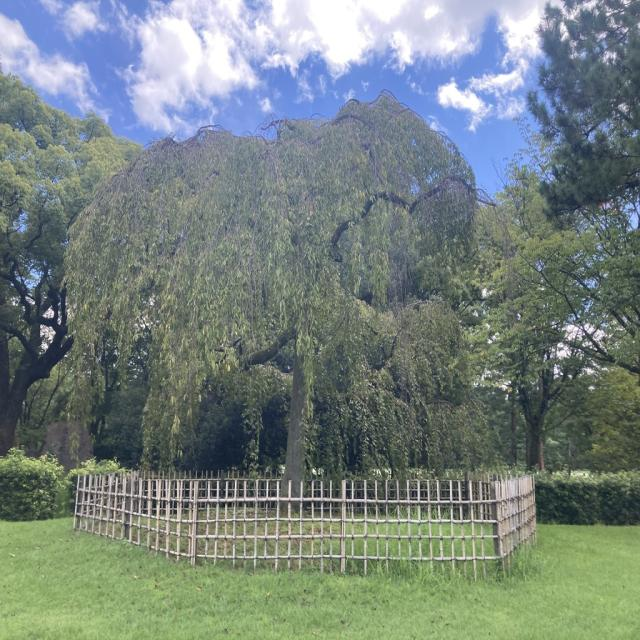sakura: (63, 87, 477, 513)
